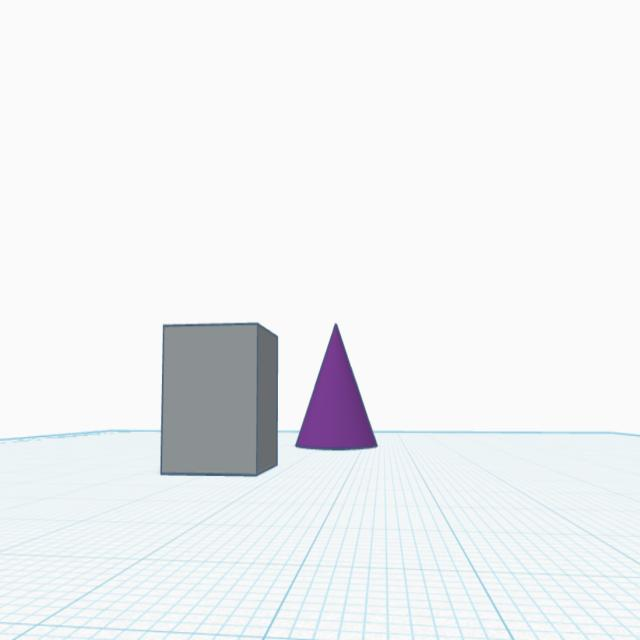cone: (294, 316, 379, 456)
cube: (157, 318, 280, 478)
